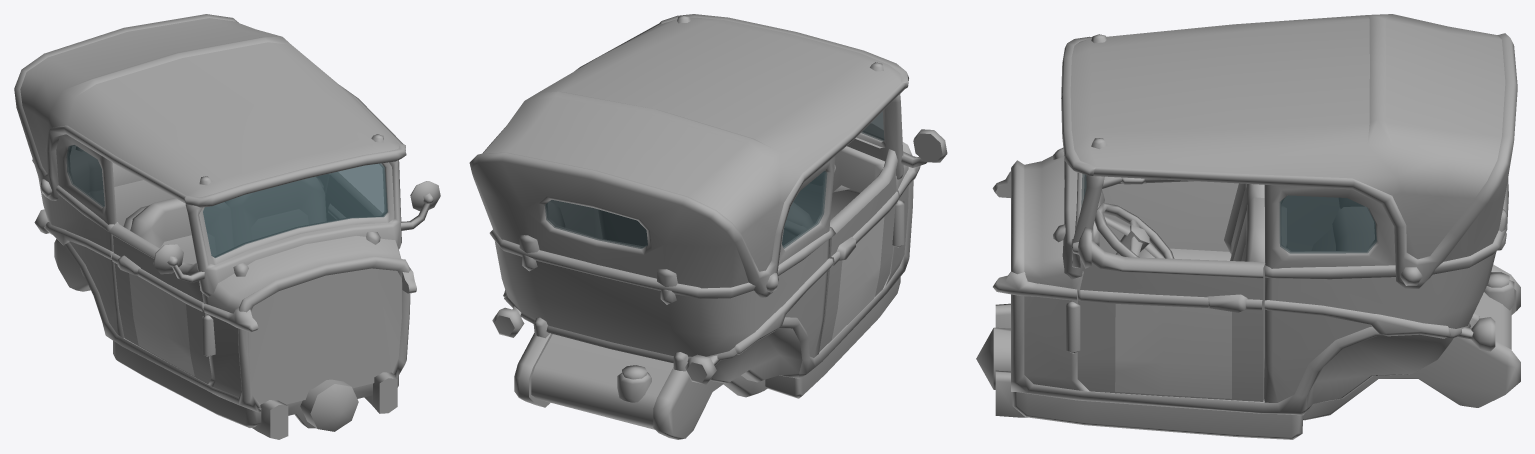
The model's file is Body_Phaeton_Tudor.fbx.
3 views of the same model, side by side, from view 1: azimuth 30°, elevation 25°; view 2: azimuth 150°, elevation 25°; view 3: azimuth 270°, elevation 25° (orthographic). The views are drawn at different scales.
Visible parts, largest first — view 1: Phaeton_Tudor_Body, Phaeton_Tudor_Body_Roof, Phaeton_Tudor_Body_Window, Phaeton_Tudor_Body_Door_Right, Phaeton_Tudor_Body_Door_Right_Decal, Phaeton_Tudor_Body_Door_Left, Phaeton_Tudor_Body_Roof_Window; view 2: Phaeton_Tudor_Body_Roof, Phaeton_Tudor_Body, Phaeton_Tudor_Body_Door_Right, Phaeton_Tudor_Body_Roof_Window, Phaeton_Tudor_Body_Door_Right_Decal; view 3: Phaeton_Tudor_Body_Roof, Phaeton_Tudor_Body, Phaeton_Tudor_Body_Door_Left, Phaeton_Tudor_Body_Door_Left_Decal, Phaeton_Tudor_Body_Door_Right, Phaeton_Tudor_Body_Roof_Window, Phaeton_Tudor_Body_SteerWheel.
Part boxes in pixels (x1=…): Phaeton_Tudor_Body: x1=32, y1=145, x2=440, y2=439; Phaeton_Tudor_Body_Roof: x1=14, y1=14, x2=406, y2=224; Phaeton_Tudor_Body_Window: x1=203, y1=163, x2=387, y2=257; Phaeton_Tudor_Body_Door_Right: x1=109, y1=223, x2=211, y2=383; Phaeton_Tudor_Body_Door_Right_Decal: x1=129, y1=273, x2=194, y2=376; Phaeton_Tudor_Body_Door_Left: x1=325, y1=172, x2=381, y2=220; Phaeton_Tudor_Body_Roof_Window: x1=66, y1=145, x2=104, y2=207; Phaeton_Tudor_Body_Roof: x1=469, y1=14, x2=908, y2=297; Phaeton_Tudor_Body: x1=489, y1=94, x2=947, y2=439; Phaeton_Tudor_Body_Door_Right: x1=819, y1=149, x2=899, y2=351; Phaeton_Tudor_Body_Roof_Window: x1=544, y1=170, x2=827, y2=248; Phaeton_Tudor_Body_Door_Right_Decal: x1=832, y1=217, x2=884, y2=339; Phaeton_Tudor_Body_Roof: x1=1061, y1=14, x2=1517, y2=288; Phaeton_Tudor_Body: x1=976, y1=148, x2=1520, y2=439; Phaeton_Tudor_Body_Door_Left: x1=1077, y1=240, x2=1265, y2=401; Phaeton_Tudor_Body_Door_Left_Decal: x1=1115, y1=304, x2=1231, y2=398; Phaeton_Tudor_Body_Door_Right: x1=1099, y1=176, x2=1238, y2=254; Phaeton_Tudor_Body_Roof_Window: x1=1279, y1=195, x2=1377, y2=253; Phaeton_Tudor_Body_SteerWheel: x1=1094, y1=202, x2=1174, y2=258.
Size of the model in its own units: 202 by 181 by 269.
